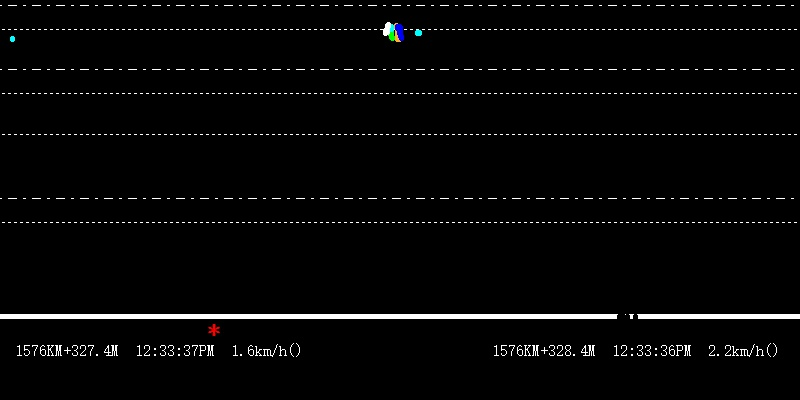face_1: (415, 25, 423, 41)
face_2: (382, 16, 406, 45)
star: (204, 321, 221, 340)
